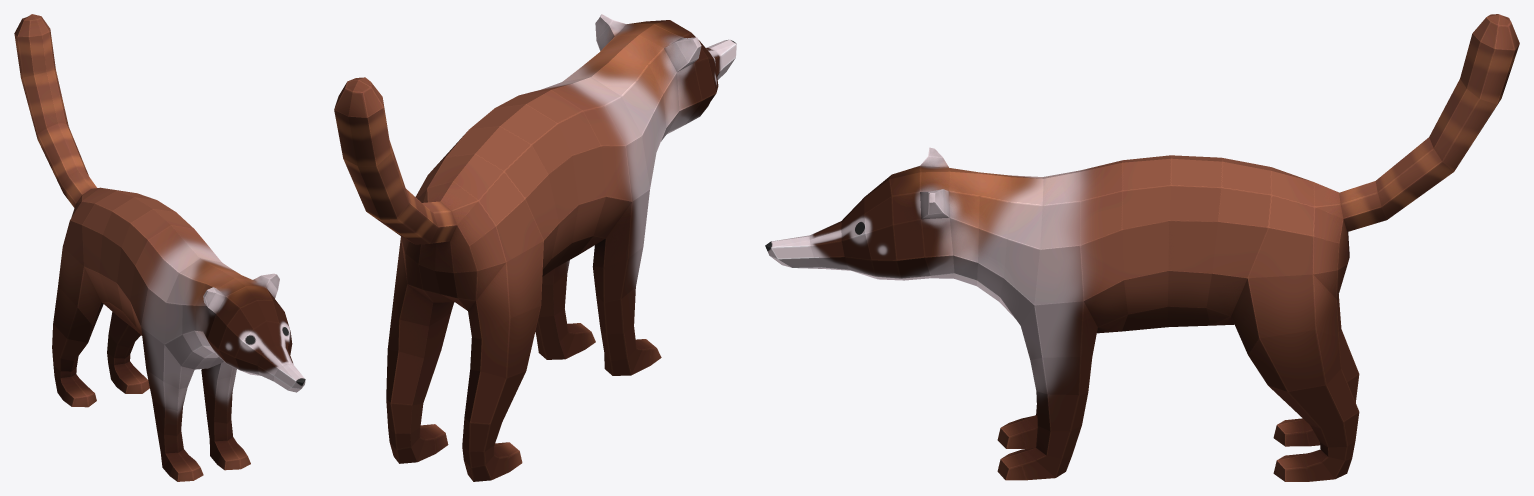
File: Coati.obj
The picture shows the model from 3 angles, left to right: view 1: azimuth 30°, elevation 25°; view 2: azimuth 150°, elevation 25°; view 3: azimuth 270°, elevation 25°; orthographic projection. The views are drawn at different scales.
Parts seen in each view (by area): view 1: Coati_mesh; view 2: Coati_mesh; view 3: Coati_mesh.
Boxes of the visible parts, box(x1,y1,x2,y2) form: Coati_mesh: box(14, 14, 305, 481); Coati_mesh: box(334, 14, 736, 481); Coati_mesh: box(765, 14, 1519, 481).
Size of the model in its own units: 0.8993 by 3.15 by 4.88.
1 material, 1 textured.
